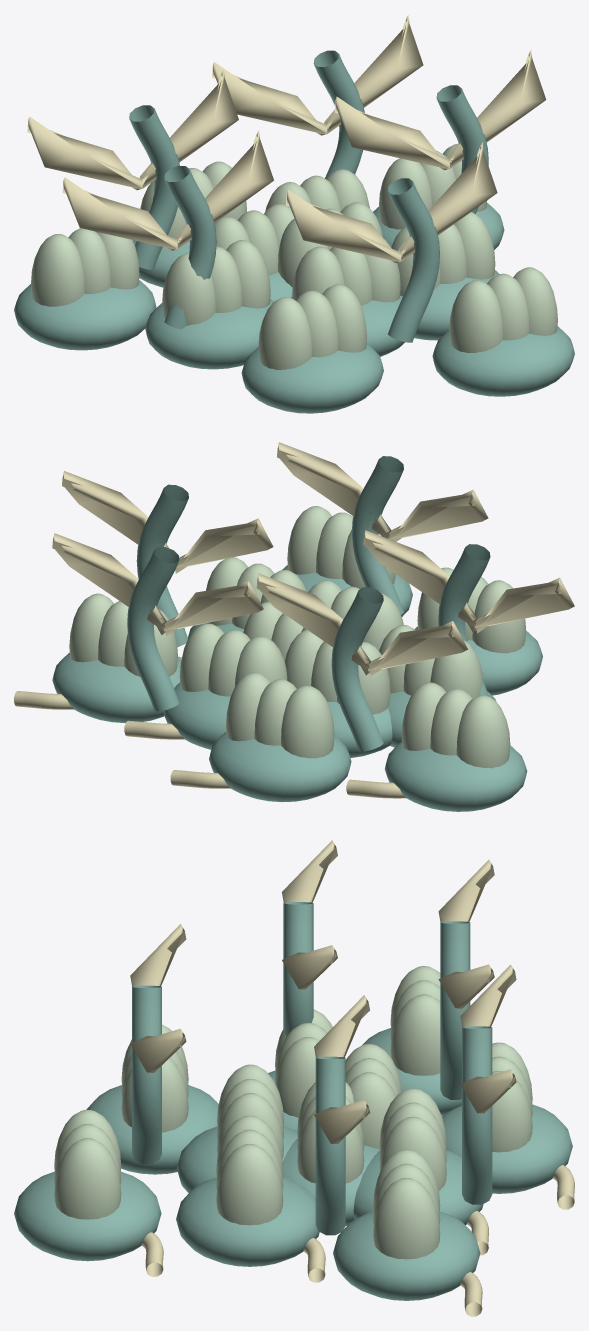
Rendered from bio_acid_mat_07_near.glb.
The picture shows the model from 3 angles, top to bottom: view 1: azimuth 30°, elevation 25°; view 2: azimuth 150°, elevation 25°; view 3: azimuth 270°, elevation 25°; orthographic projection. The views are drawn at different scales.
Visible parts, largest first — view 1: Reaction vesicle.021, Reaction vesicle.030, Microbial cushion.010, Microbial cushion.007, Microbial cushion.009, Reaction vesicle.027, Secondary fan lobe.002, Secondary fan lobe.008, Secondary fan lobe.004, Secondary fan lobe, Secondary fan lobe.006, Reaction vesicle.012 (+17 smaller); view 2: Reaction vesicle.018, Reaction vesicle.027, Microbial cushion.009, Microbial cushion.006, Secondary fan lobe.002, Secondary fan lobe.006, Secondary fan lobe.008, Secondary fan lobe.004, Reaction vesicle.009, Secondary fan lobe, Microbial cushion.008, Reaction vesicle.024 (+21 smaller); view 3: Microbial cushion.008, Microbial cushion.010, Microbial cushion.005, Reaction vesicle.030, Reaction vesicle.015, Reaction vesicle.024, Reaction vesicle.027, Microbial cushion.006, Branching support, Branching support.003, Branching support.002, Reaction vesicle.009 (+23 smaller).
Boxes of the visible parts, x1=… form: Reaction vesicle.021: x1=258, y1=284, x2=366, y2=369; Reaction vesicle.030: x1=449, y1=267, x2=557, y2=352; Microbial cushion.010: x1=432, y1=326, x2=574, y2=396; Microbial cushion.007: x1=241, y1=343, x2=383, y2=413; Microbial cushion.009: x1=14, y1=280, x2=156, y2=350; Reaction vesicle.027: x1=31, y1=228, x2=139, y2=306; Secondary fan lobe.002: x1=27, y1=69, x2=238, y2=190; Secondary fan lobe.008: x1=62, y1=130, x2=273, y2=250; Secondary fan lobe.004: x1=286, y1=142, x2=497, y2=263; Secondary fan lobe: x1=334, y1=49, x2=546, y2=170; Secondary fan lobe.006: x1=212, y1=15, x2=423, y2=135; Reaction vesicle.012: x1=162, y1=240, x2=270, y2=325; Reaction vesicle.018: x1=226, y1=672, x2=334, y2=758; Reaction vesicle.027: x1=401, y1=682, x2=510, y2=768; Microbial cushion.009: x1=385, y1=741, x2=527, y2=811; Microbial cushion.006: x1=209, y1=732, x2=351, y2=802; Secondary fan lobe.002: x1=256, y1=573, x2=468, y2=676; Secondary fan lobe.006: x1=52, y1=533, x2=263, y2=636; Secondary fan lobe.008: x1=363, y1=530, x2=574, y2=633; Secondary fan lobe.004: x1=277, y1=442, x2=488, y2=541; Reaction vesicle.009: x1=179, y1=623, x2=287, y2=696; Secondary fan lobe: x1=62, y1=471, x2=273, y2=573; Microbial cushion.008: x1=52, y1=653, x2=181, y2=722; Reaction vesicle.024: x1=69, y1=593, x2=177, y2=676; Microbial cushion.008: x1=333, y1=1211, x2=480, y2=1300; Microbial cushion.010: x1=14, y1=1171, x2=161, y2=1261; Microbial cushion.005: x1=176, y1=1177, x2=319, y2=1266; Reaction vesicle.030: x1=54, y1=1109, x2=121, y2=1219; Reaction vesicle.015: x1=216, y1=1115, x2=283, y2=1225; Reaction vesicle.024: x1=373, y1=1149, x2=440, y2=1259; Reaction vesicle.027: x1=390, y1=966, x2=440, y2=1075; Microbial cushion.006: x1=442, y1=1104, x2=572, y2=1193; Branching support: x1=315, y1=1056, x2=345, y2=1235; Branching support.003: x1=462, y1=1026, x2=492, y2=1204; Branching support.002: x1=132, y1=985, x2=161, y2=1163; Reaction vesicle.009: x1=379, y1=1088, x2=446, y2=1190.
Size of the model in its own units: 1.85 by 0.755 by 1.67.
